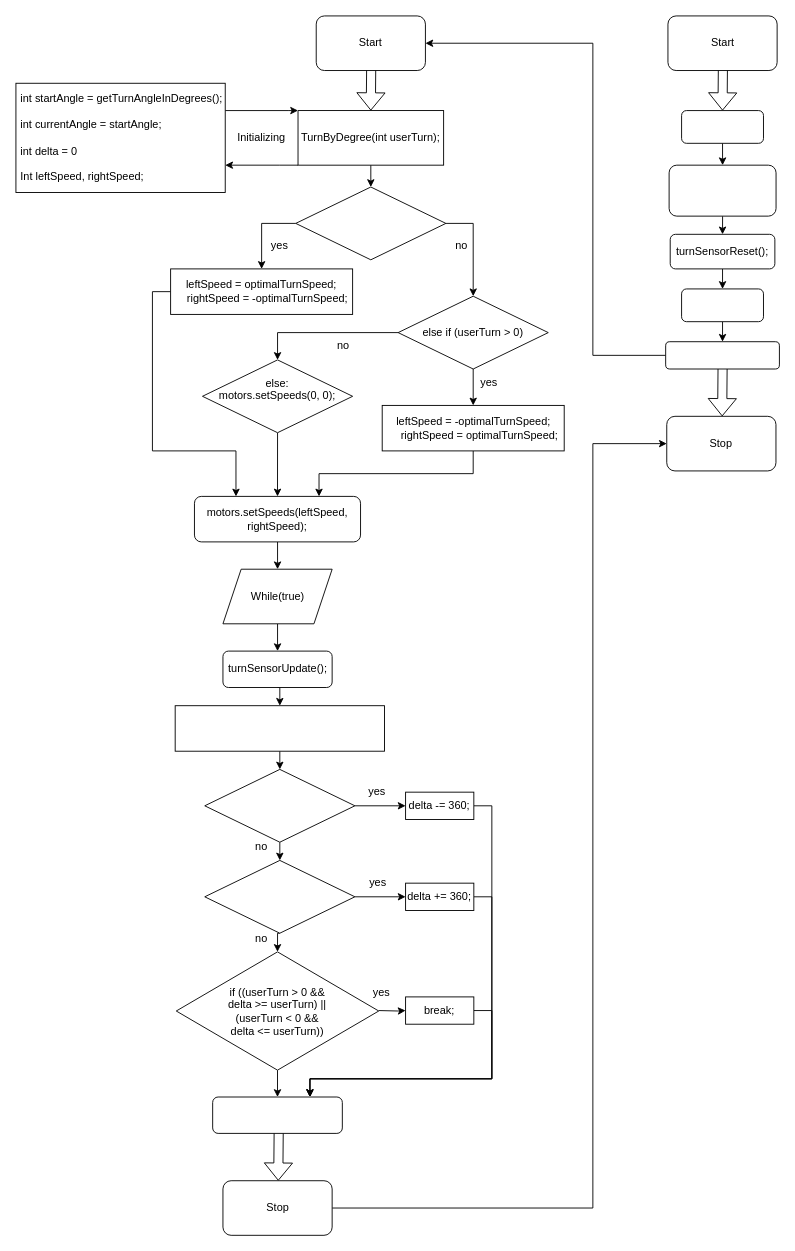
This 795x1251 diagram has some shape labels left out. Each missing label, with the centre of its shape:
"currentAngle = getTurnAngleInDegrees(); delta = currentAngle - startAngle;" belongs at (279,728).
"if (delta < -180)" belongs at (279,896).
"if (delta > 180)" belongs at (279,805).
"if (userTurn > 0)" belongs at (370,223).
"motors.setSpeeds(0, 0); delay(100);" belongs at (277,1114).
"TurnByDegree(-90);" belongs at (722,355).
"turnSensorSetup(); delay(500);" belongs at (722,190).
"void loop()" belongs at (722,305).
"void setup()" belongs at (722,126).
